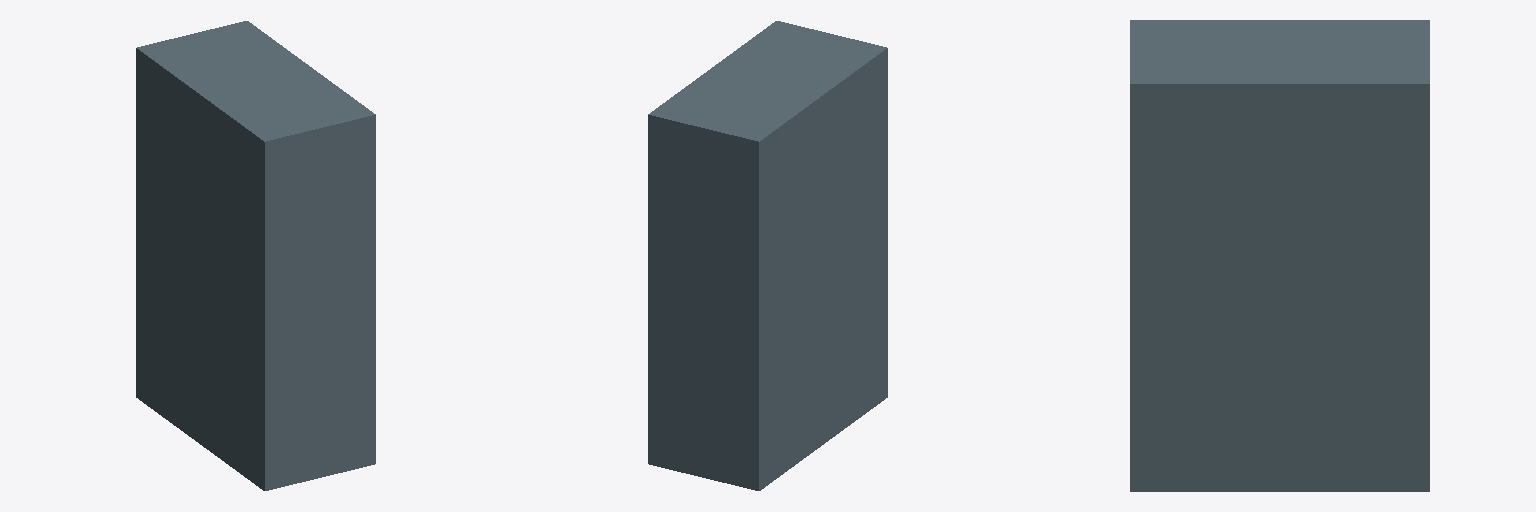
robot.urdf — box:
<?xml version="1.0"?>
<robot name="box">
<link name="world"/>
  <joint name="fixed" type="fixed">
    <parent link="world"/>
    <child link="box"/>
  </joint>
  <link name="box">
    <inertial>
     <origin
        xyz="0 0 0"
        rpy="0 0 0" />
      <mass value="1"/>
      <!-- Inertia values were calculated to be consistent with the mass and
           geometry size, assuming a uniform density. -->
      <inertia ixx="0.0108" ixy="0" ixz="0" iyy="0.0083" iyz="0" izz="0.0042"/>
    </inertial>
    <visual>
        <origin
        xyz="0 0 0"
        rpy="0 0 0" />
      <geometry>
        <box size=".1 .2 .3"/>
      </geometry>
      <material name="red">
           <color rgba="0.4196078431372549 0.48627450980392156 0.5215686274509804 1.0"/>
      </material>
    </visual>
    <collision name="box">
      <geometry>
        <box size=".1 .2 .3"/>
      </geometry>
    </collision>
  </link>
</robot>

--- Facts derived from the render (not from the file) ---
Views: 3 orthographic renders of the robot side by side, from view 1: azimuth 30°, elevation 25°; view 2: azimuth 150°, elevation 25°; view 3: azimuth 270°, elevation 25°.
Model box with 2 links and 1 joints (1 fixed), rooted at world, posed every joint at zero.
Links seen in each view (by area): view 1: box; view 2: box; view 3: box.
Boxes of the visible links, box(x1,y1,x2,y2) form: box: box(136, 21, 375, 490); box: box(648, 21, 887, 490); box: box(1130, 20, 1429, 491).
Size in the robot's own frame: 0.1 by 0.2 by 0.3 metres.
Geometry: primitives only (box / cylinder / sphere), no mesh files.